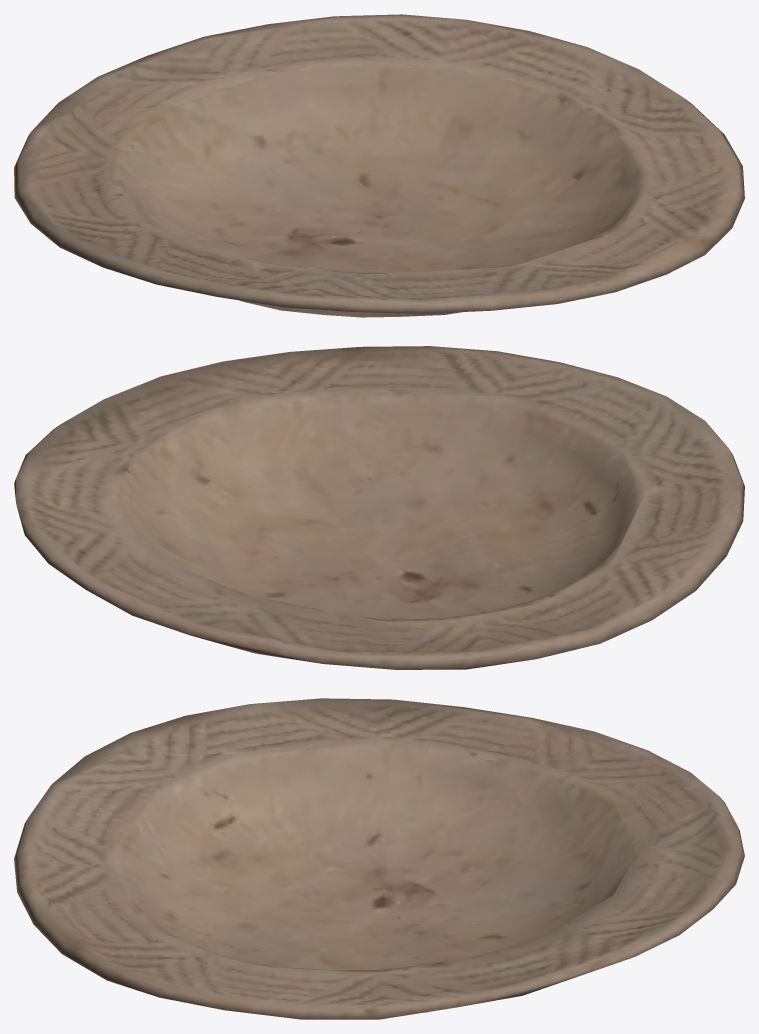
Rendered from carved_wooden_plate.glb.
3 views of the same model, one above another, from view 1: azimuth 30°, elevation 25°; view 2: azimuth 150°, elevation 25°; view 3: azimuth 270°, elevation 25° (orthographic). The views are drawn at different scales.
Parts seen in each view (by area): view 1: carved_wooden_plate; view 2: carved_wooden_plate; view 3: carved_wooden_plate.
Part boxes in pixels (x1,y1,x2,y2): carved_wooden_plate: (14, 14, 744, 317); carved_wooden_plate: (14, 346, 744, 669); carved_wooden_plate: (14, 698, 744, 1019).
Size of the model in its own units: 0.2718 by 0.0374 by 0.2688.
Materials: 1 (1 with a texture image).
